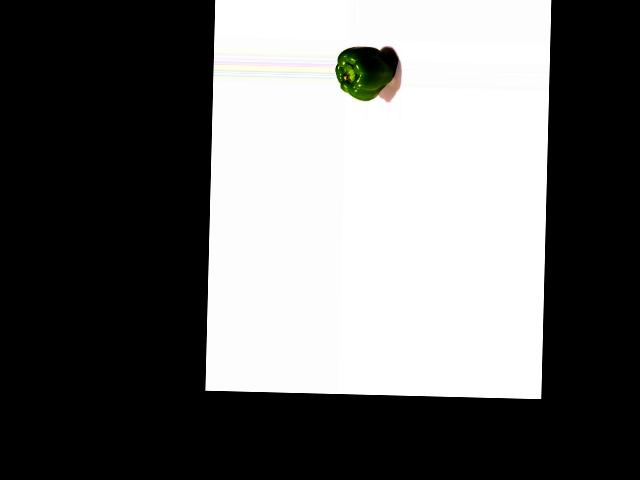bell_pepper: (335, 44, 397, 103)
